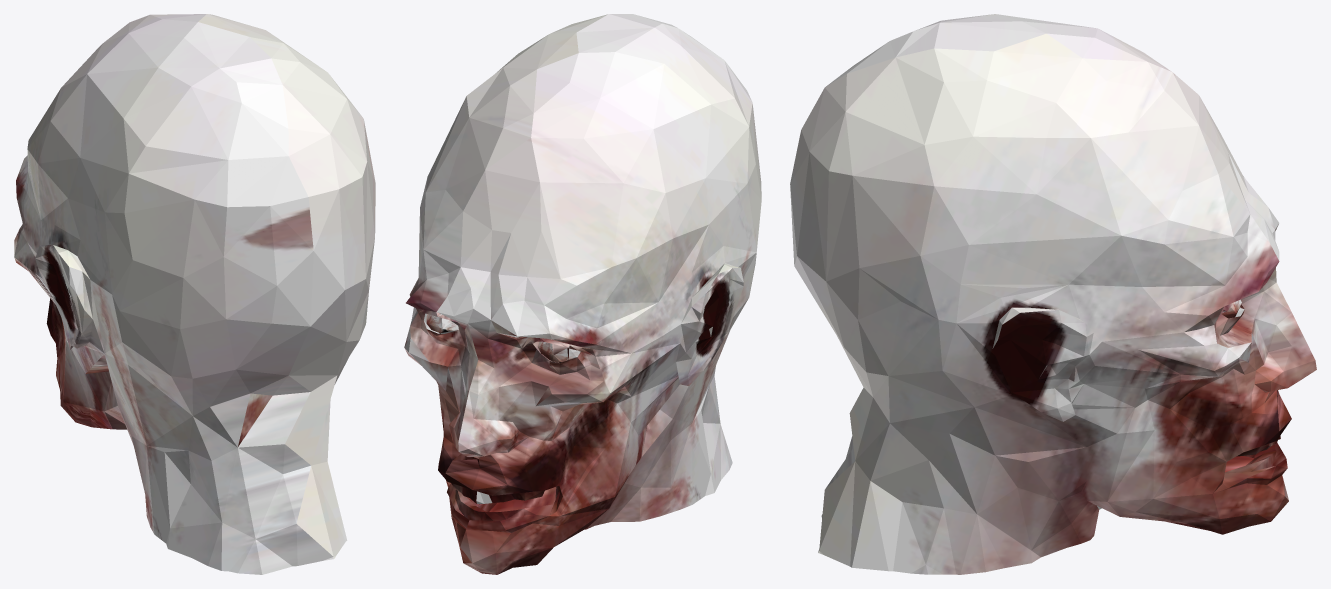
The model's file is SCP-096-HEAD.fbx.
3 views of the same model, side by side, from view 1: azimuth 30°, elevation 25°; view 2: azimuth 150°, elevation 25°; view 3: azimuth 270°, elevation 25° (orthographic). The views are drawn at different scales.
Visible parts, largest first — view 1: node_id8; view 2: node_id8 (×2); view 3: node_id8.
Boxes of the visible parts, x1,y1,x2,y2 form: node_id8: (14,14,375,574); node_id8 (×2): (404,14,761,574); node_id8: (790,14,1316,574).
Bounding box in the file's own units: 0.3298 × 0.512 × 0.4857.
Materials: 3 (2 with a texture image).
